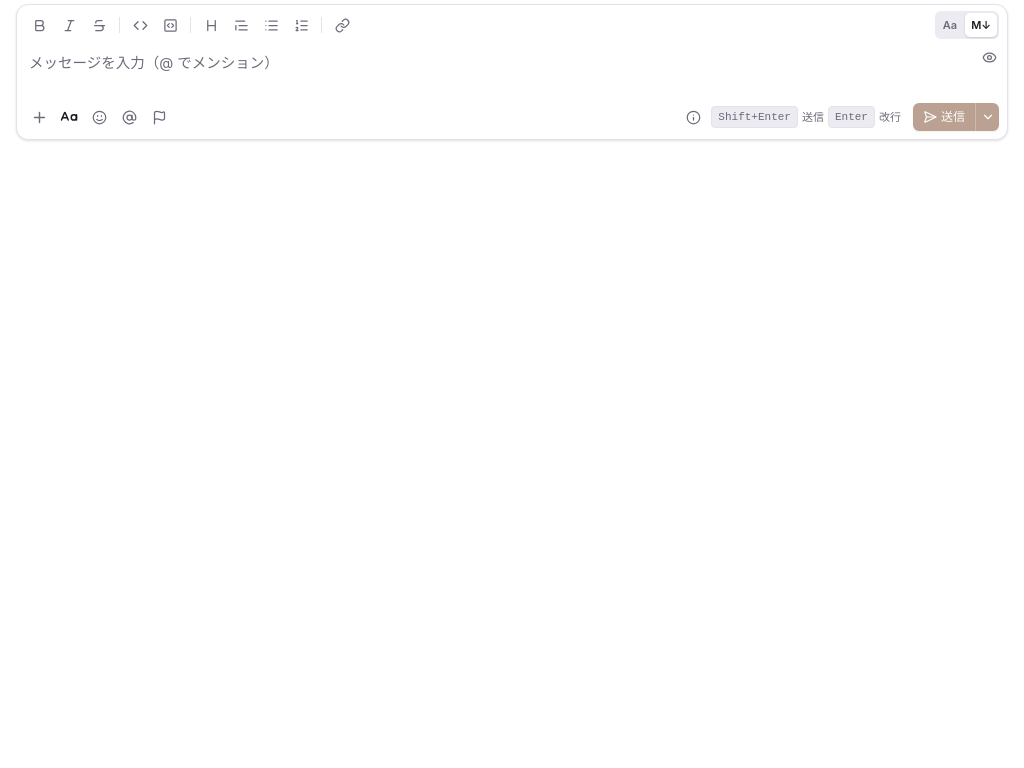
Scenario: アンケートを作成 (tester request: a form like Polly, several answers) › `/poll` alone opens the form
Step 1. Type "/poll" into the text box → (494, 71), box [17,39,971,103]
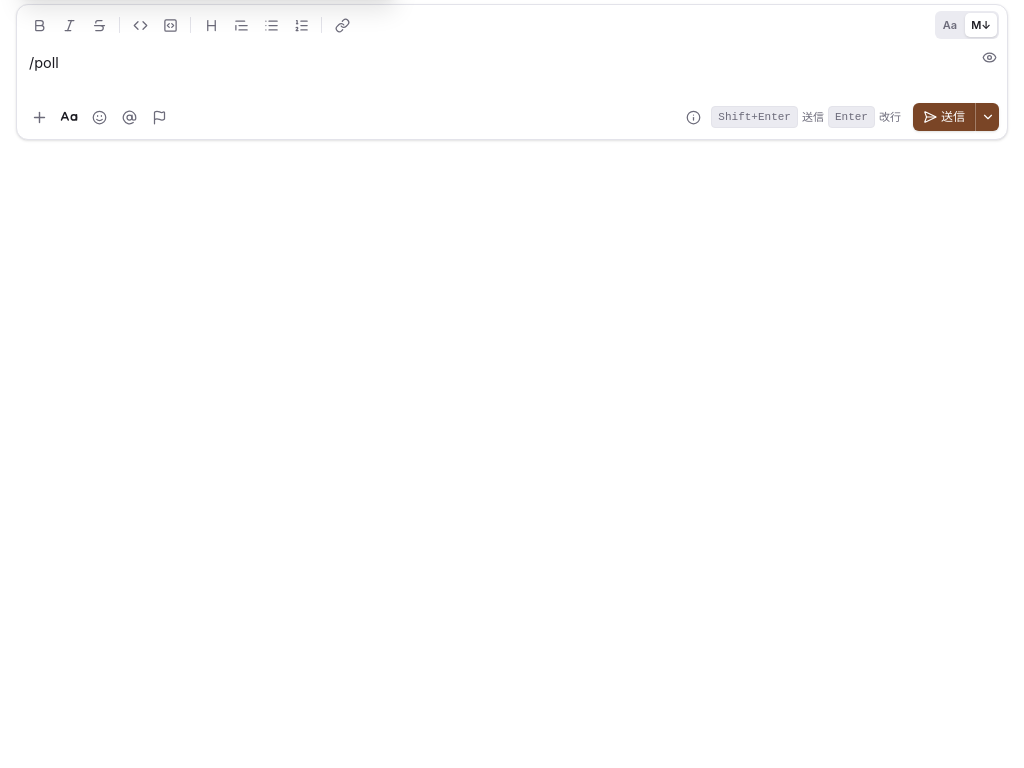
// The first key takes the /poll suggestion (「/poll 」), the second sends it: the form opens instead.
Step 2. Press Enter in the text box, box [17,39,971,103]
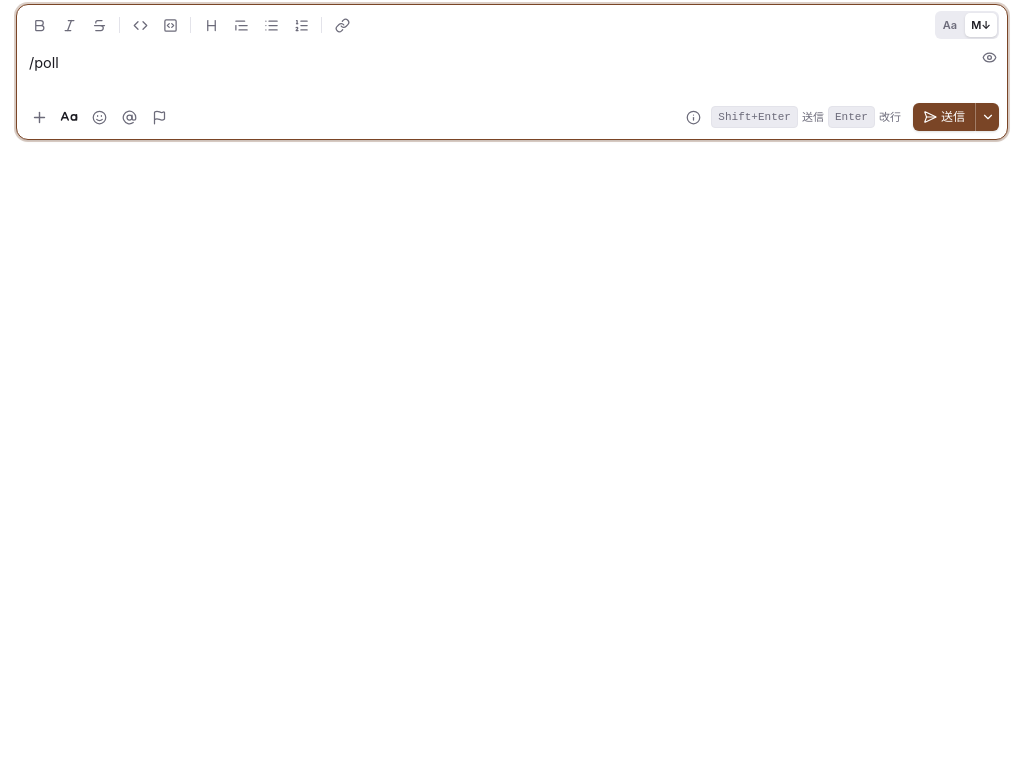
Step 3. Press Enter in the text box, box [17,39,971,103]
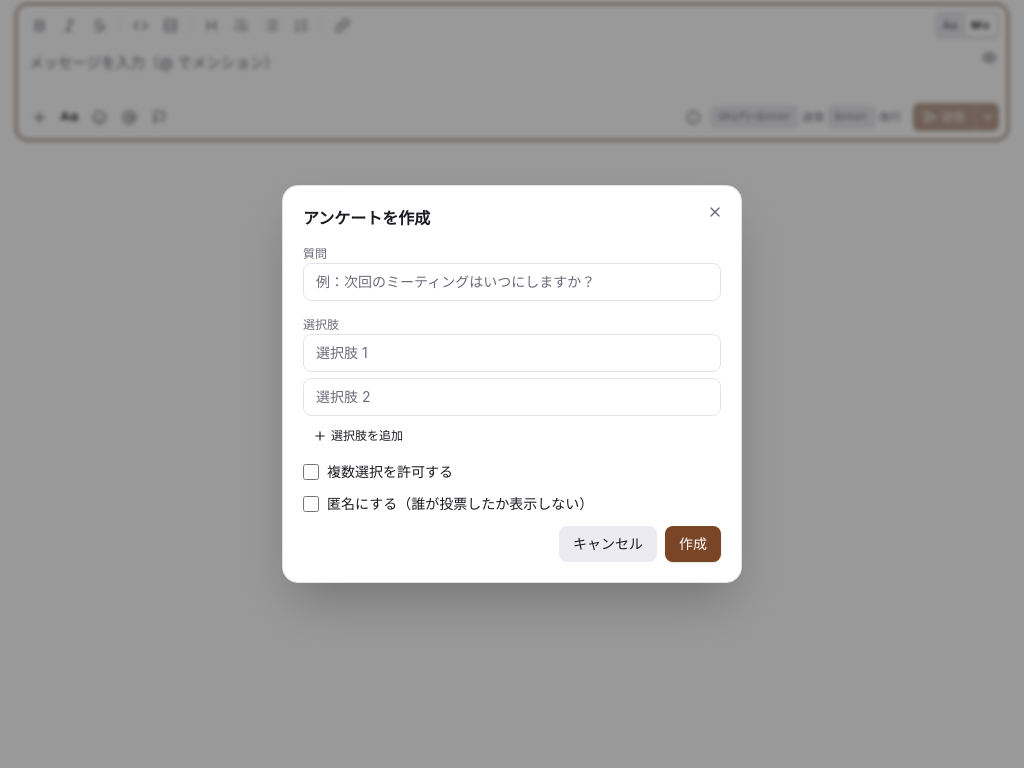
Check: the dialog "アンケートを作成" is shown, box [282,185,742,583]
